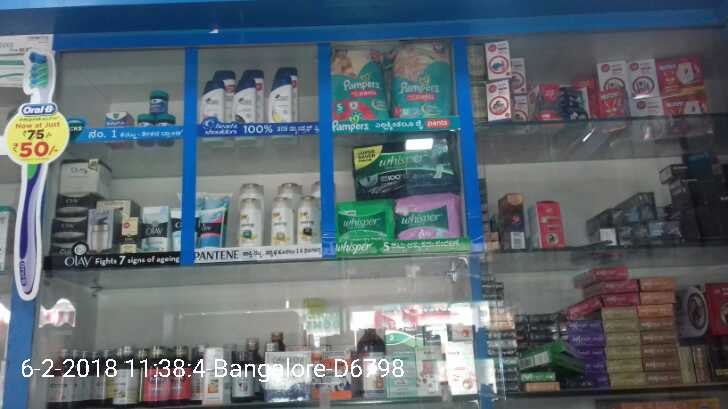vicks: (99, 85, 174, 131)
